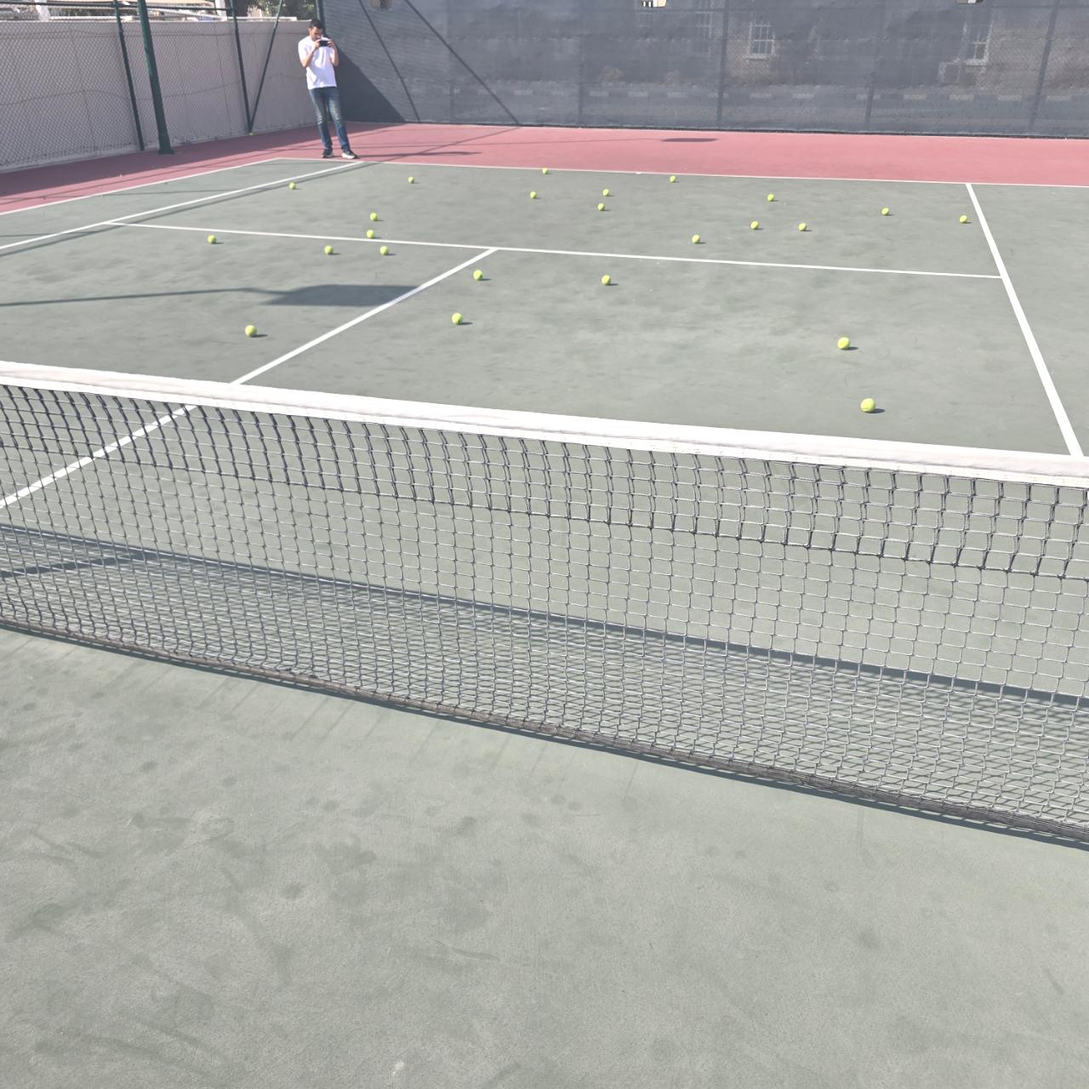tennis-ball: (861, 396, 876, 412), (838, 334, 851, 349), (245, 322, 258, 336), (452, 311, 464, 325), (473, 267, 484, 281), (795, 222, 810, 232), (958, 213, 970, 225), (602, 273, 613, 285), (693, 232, 704, 244), (748, 221, 760, 232), (365, 229, 376, 239), (323, 245, 334, 255), (879, 207, 891, 216), (380, 245, 390, 255), (369, 212, 378, 222), (207, 235, 217, 244), (601, 189, 612, 197), (529, 191, 538, 200), (767, 194, 776, 202), (598, 203, 606, 211), (289, 183, 297, 191), (670, 176, 677, 182), (542, 168, 548, 175), (408, 177, 415, 183), (249, 132, 254, 137)
